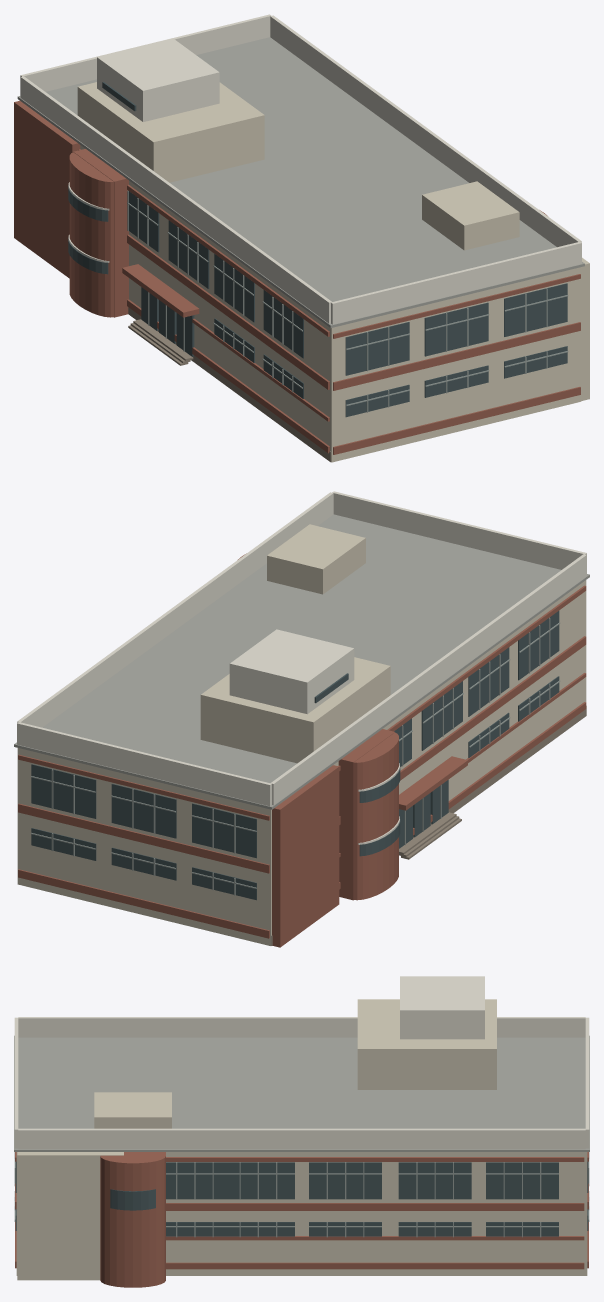
Rendered from cafeteria.glb.
3 views of the same model, one above another, from view 1: azimuth 30°, elevation 25°; view 2: azimuth 150°, elevation 25°; view 3: azimuth 270°, elevation 25° (orthographic). The views are drawn at different scales.
Visible parts, largest first — view 1: d5cebb, a9aaa3, e4e1d5, 9d6756, 4e5e61, 9da6a1, 978c7e; view 2: a9aaa3, d5cebb, e4e1d5, 9d6756, 4e5e61, 9da6a1, 978c7e; view 3: d5cebb, a9aaa3, e4e1d5, 9d6756, 4e5e61, 9da6a1.
Boxes of the visible parts, <box> form: d5cebb: <box>77,82,589,462</box>; a9aaa3: <box>17,37,584,327</box>; e4e1d5: <box>20,14,581,324</box>; 9d6756: <box>14,100,580,454</box>; 4e5e61: <box>68,82,567,417</box>; 9da6a1: <box>127,191,568,412</box>; 978c7e: <box>128,307,331,462</box>; a9aaa3: <box>14,514,589,809</box>; d5cebb: <box>17,524,586,945</box>; e4e1d5: <box>17,491,586,844</box>; 9d6756: <box>18,553,586,947</box>; 4e5e61: <box>31,611,559,900</box>; 9da6a1: <box>31,617,560,895</box>; 978c7e: <box>271,706,586,945</box>; d5cebb: <box>16,999,587,1280</box>; a9aaa3: <box>14,1035,589,1151</box>; e4e1d5: <box>14,976,589,1149</box>; 9d6756: <box>15,1152,588,1287</box>; 4e5e61: <box>15,1161,588,1236</box>; 9da6a1: <box>14,1152,589,1237</box>.
Bounding box in the file's own units: 20.62 × 13.7 × 36.32.
